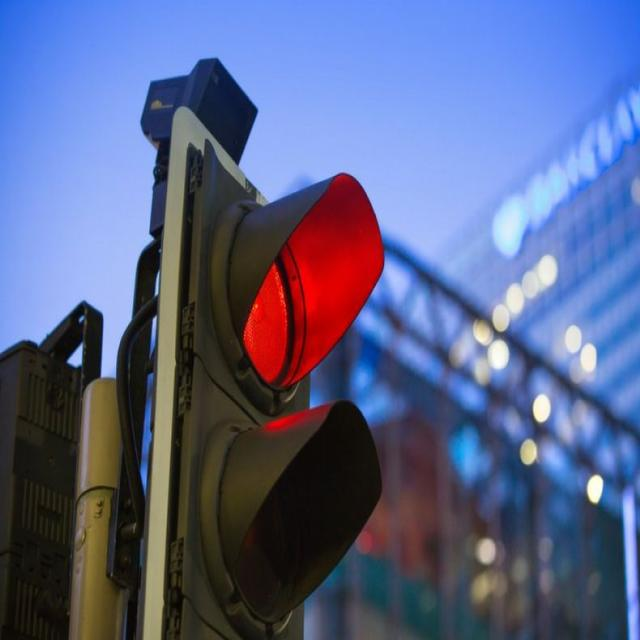red: (185, 167, 336, 624)
